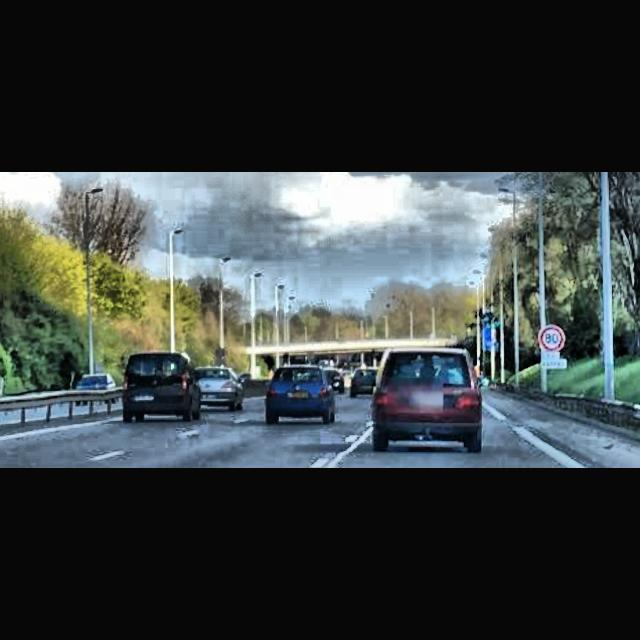speed_80: (540, 326, 564, 350)
